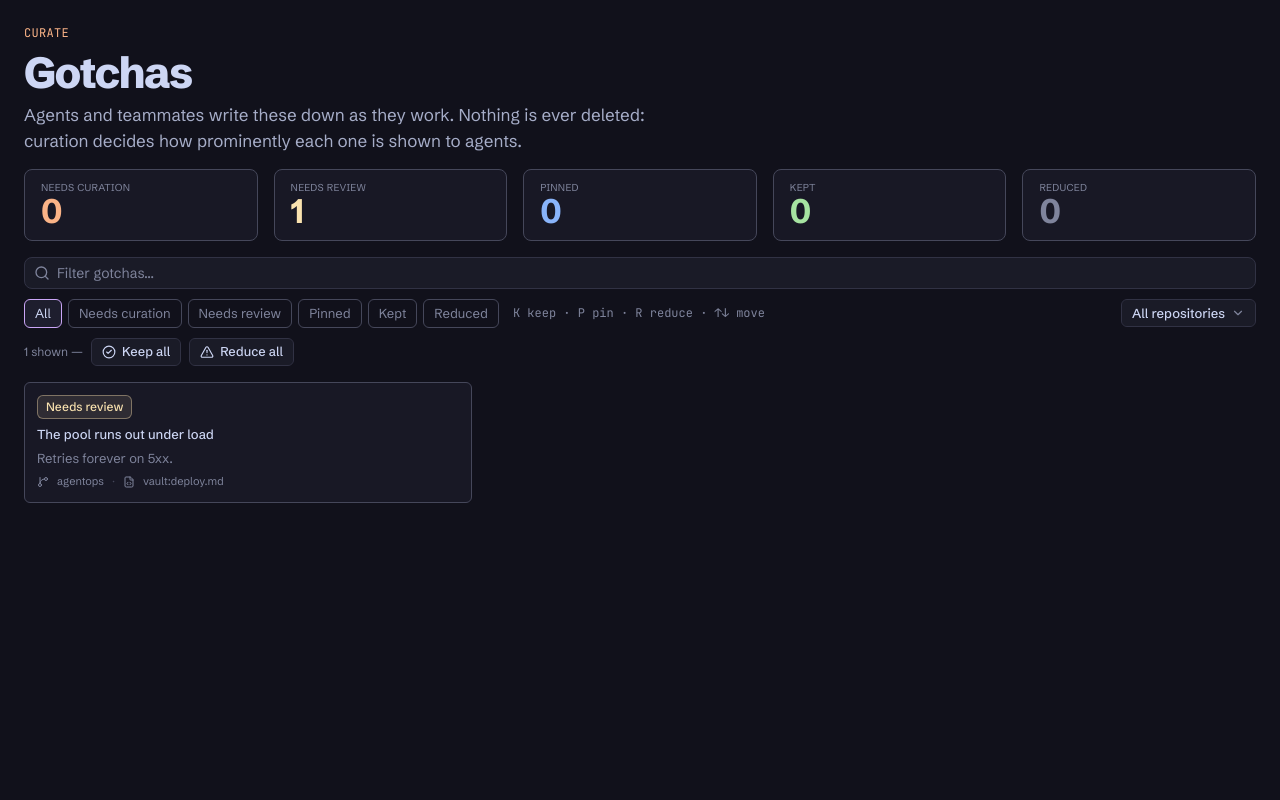
Test: GotchasPage › rejecting a proposal removes it from the list
Click the text "The pool runs out under load". click: (125, 434)
box: [37,425,214,443]
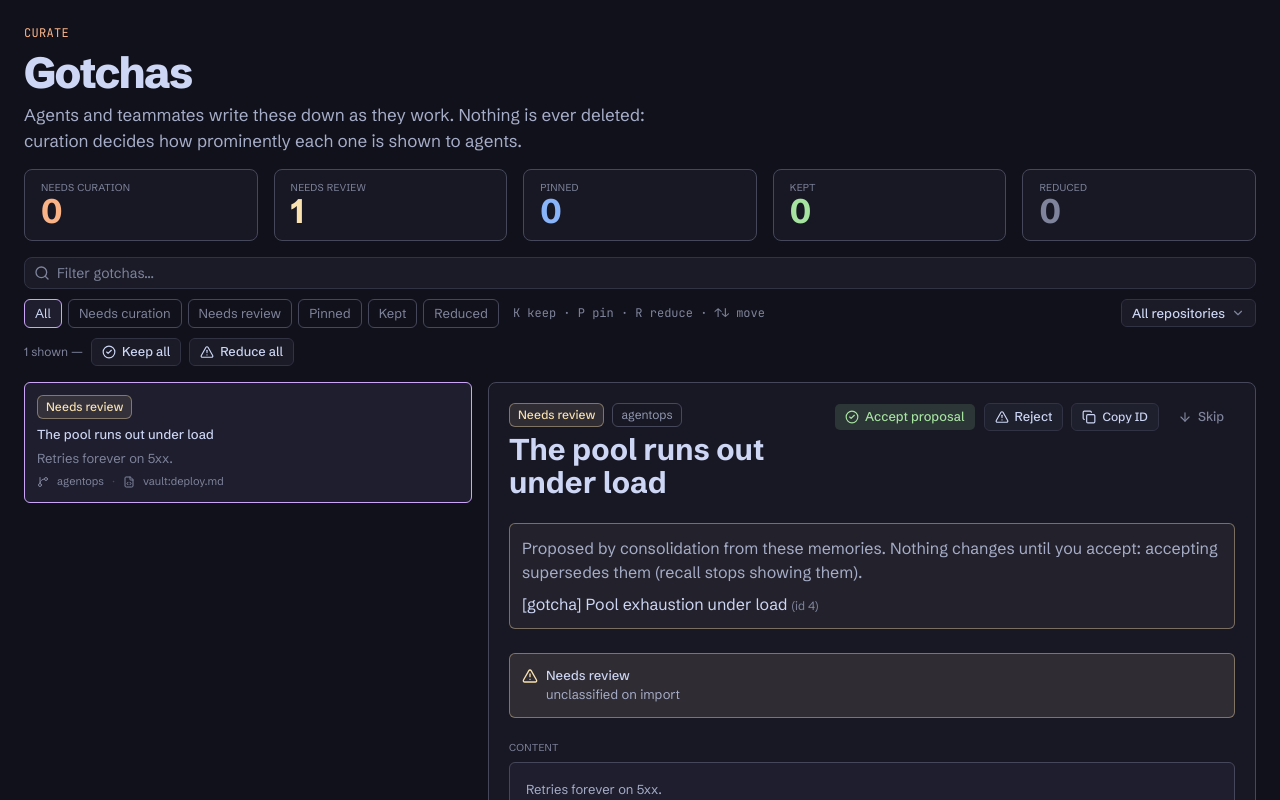
Click the button "Reject". click: (1024, 417)
box: [984,403,1064,431]
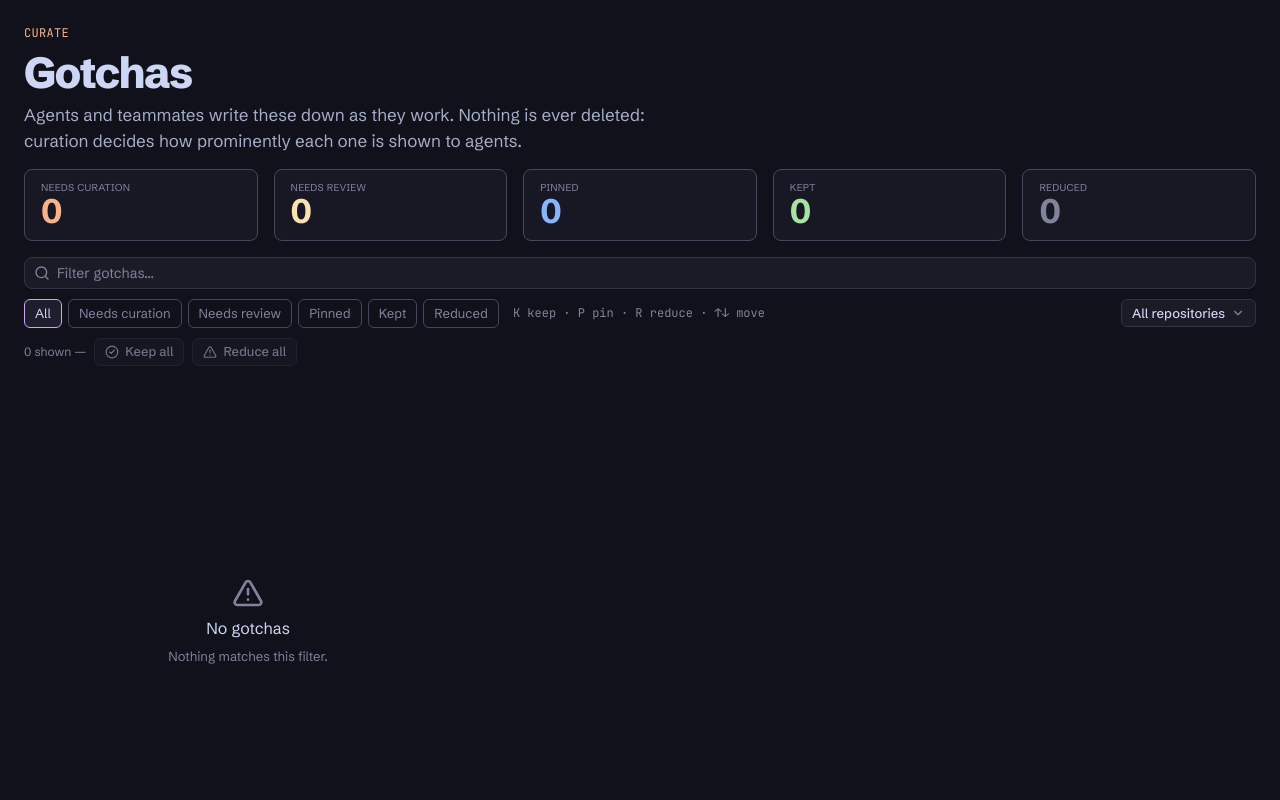
Now the button "The pool runs out under load" is gone
